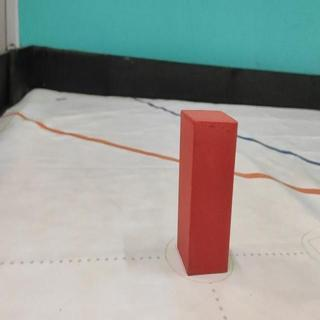redbox: (176, 109, 239, 277)
